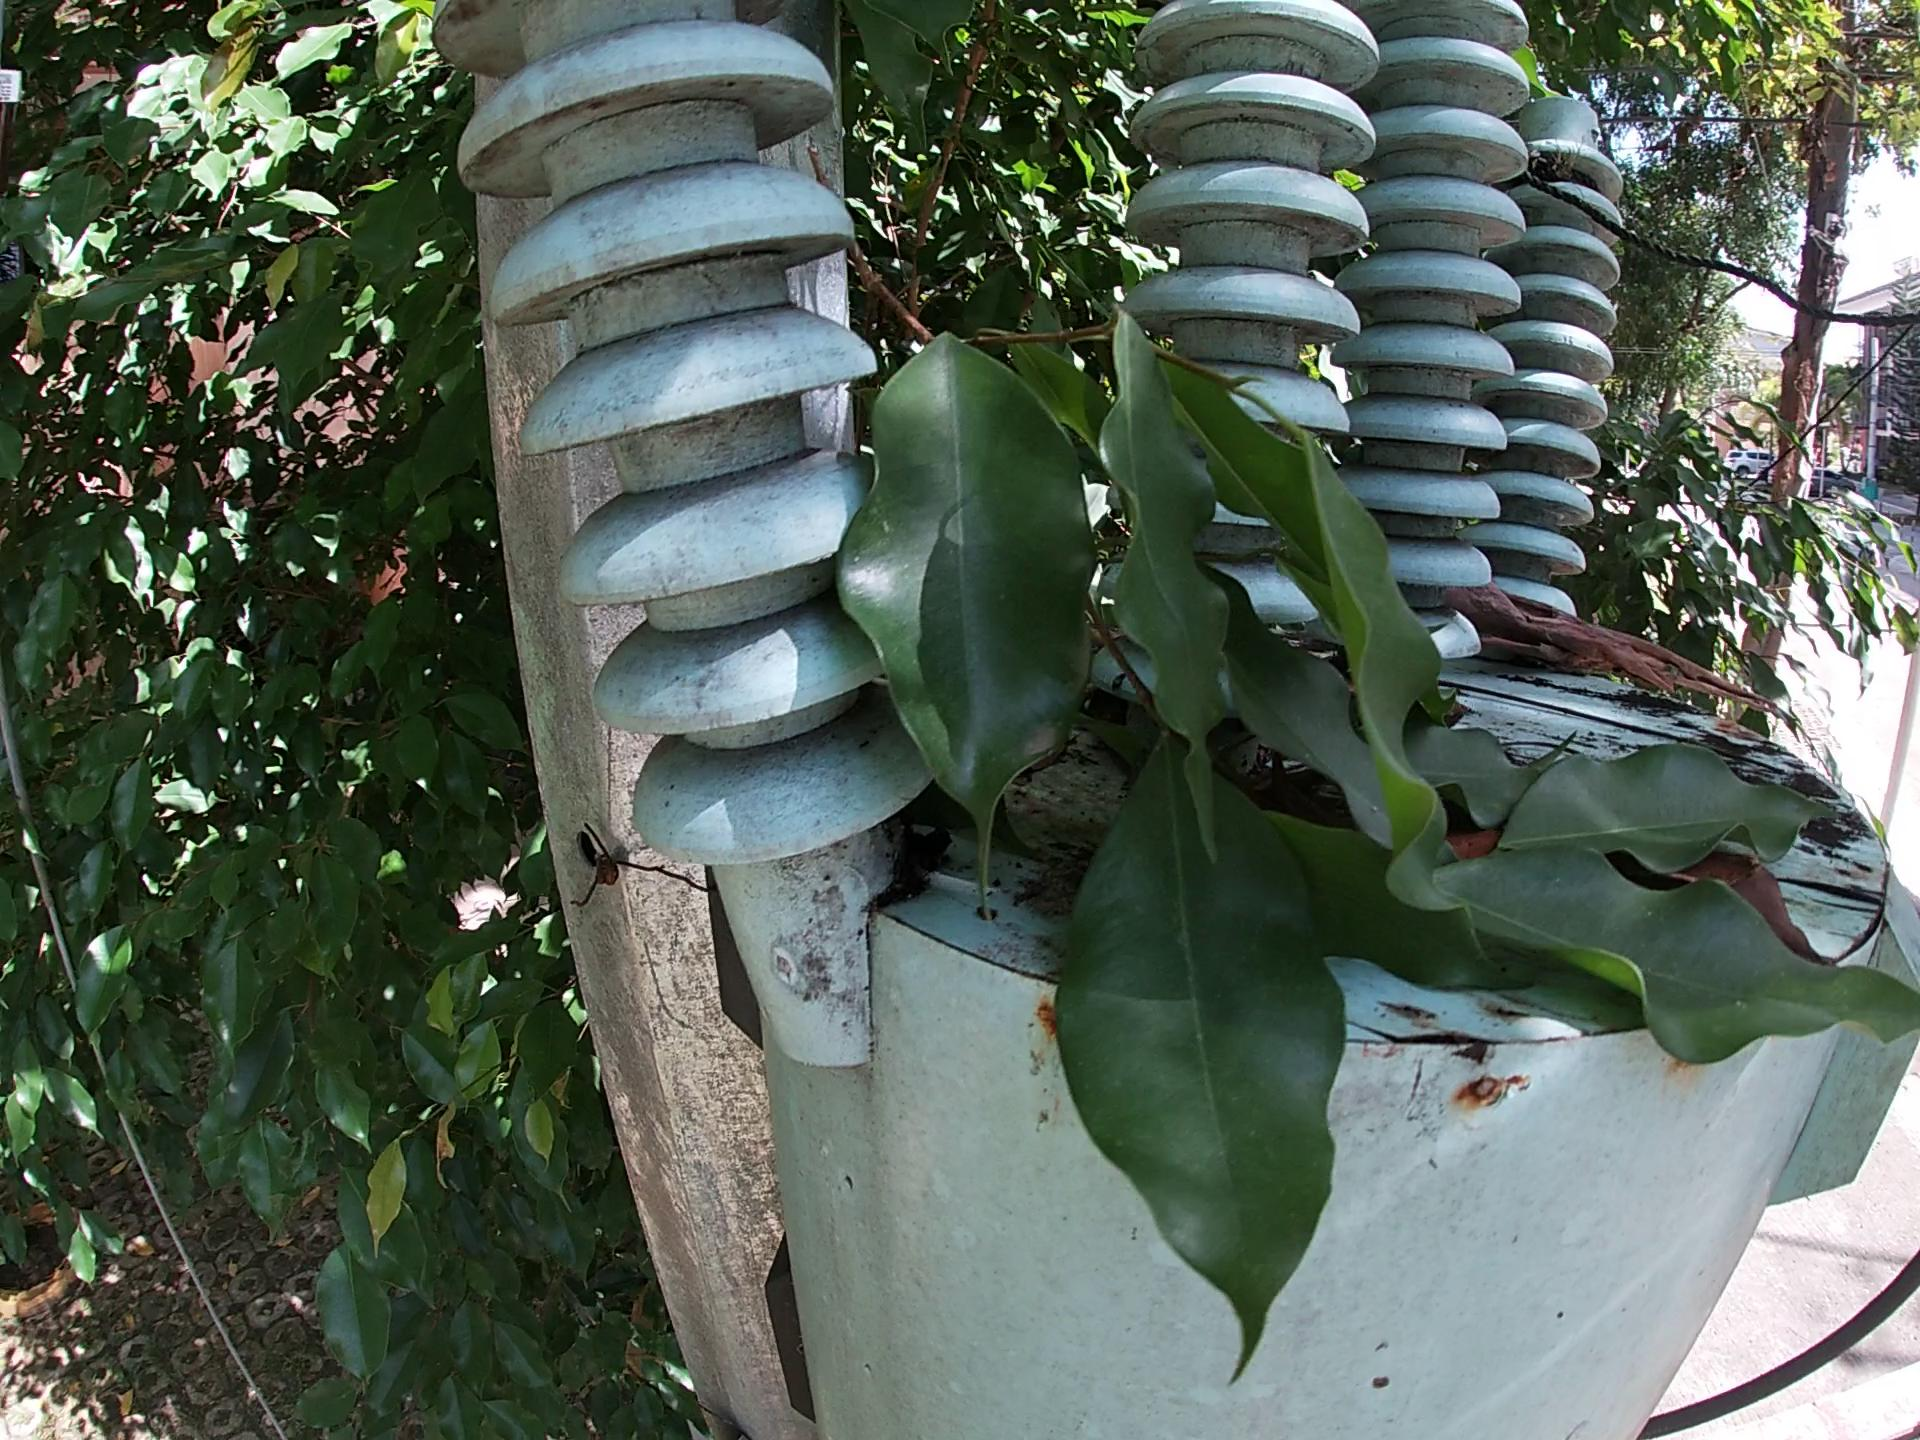branch with leaves: (791, 138, 1920, 1373)
mahogany fruit: (1705, 853, 1841, 964)
tree branch: (1438, 575, 1810, 732), (1424, 678, 1801, 781)
